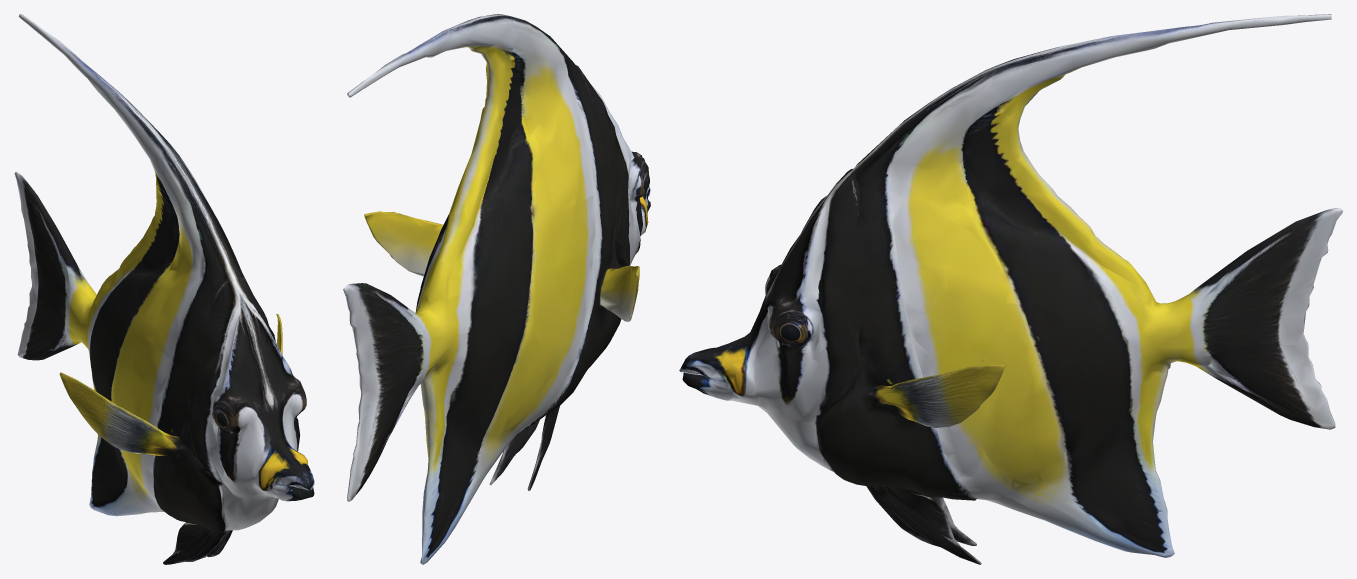
Rendered from moorish.glb.
The picture shows the model from 3 angles, left to right: view 1: azimuth 30°, elevation 25°; view 2: azimuth 150°, elevation 25°; view 3: azimuth 270°, elevation 25°; orthographic projection. The views are drawn at different scales.
Parts seen in each view (by area): view 1: tripo_node_9bee1cdd-f027-4caa-bdb0-9149d9668d58; view 2: tripo_node_9bee1cdd-f027-4caa-bdb0-9149d9668d58; view 3: tripo_node_9bee1cdd-f027-4caa-bdb0-9149d9668d58.
Part boxes in pixels (box(x1,y1,x2,y2)): tripo_node_9bee1cdd-f027-4caa-bdb0-9149d9668d58: box(14, 14, 314, 564); tripo_node_9bee1cdd-f027-4caa-bdb0-9149d9668d58: box(343, 14, 650, 564); tripo_node_9bee1cdd-f027-4caa-bdb0-9149d9668d58: box(679, 14, 1342, 564).
Bounding box in the file's own units: 0.4721 × 0.8979 × 0.9989.
Materials: 1 (1 with a texture image).
